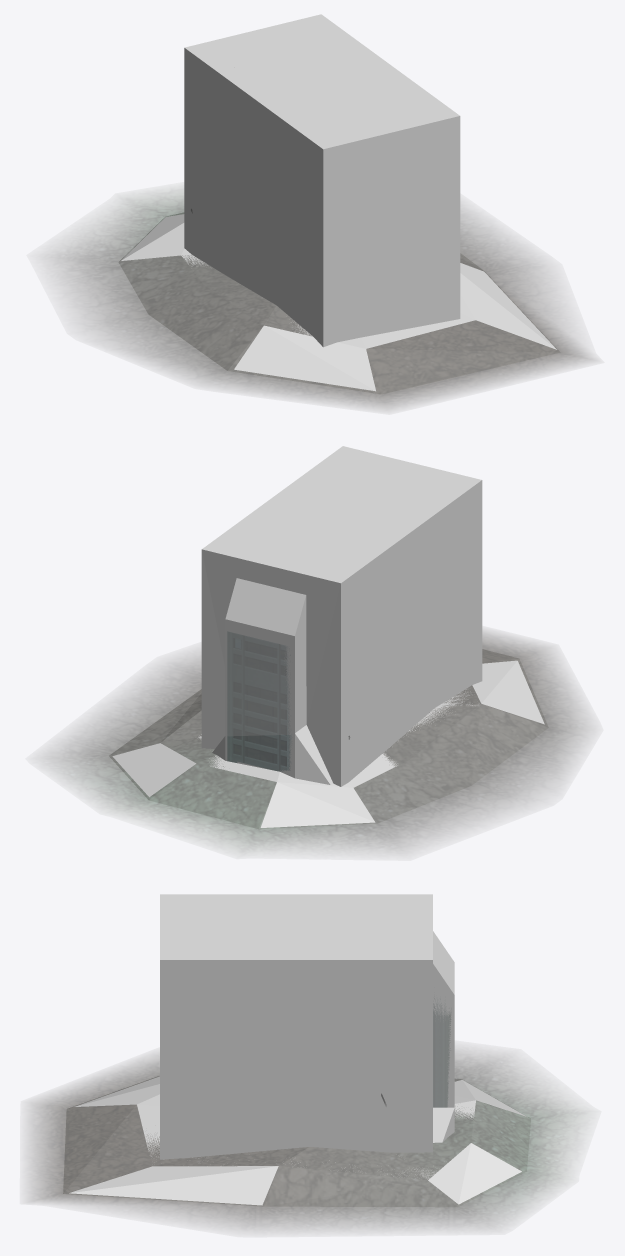
File: source.glb
3 renders of one model, top to bottom at view 1: azimuth 30°, elevation 25°; view 2: azimuth 150°, elevation 25°; view 3: azimuth 270°, elevation 25°, orthographic. The views are drawn at different scales.
Parts seen in each view (by area): view 1: coll_m206_0, state1_obj_d80d40, state1_coll_m10a_0, state2_obj_d8bcb0, state1_coll_m206_0; view 2: coll_m206_0, state1_obj_d80d40, state1_coll_m206_0, state1_coll_m10a_0, state2_obj_d8bcb0, obj_d7dee0, state1_obj_d825e0; view 3: coll_m206_0, state1_obj_d80d40, state1_coll_m10a_0, state2_obj_d8bcb0, state1_coll_m206_0, obj_d7dee0.
Part boxes in pixels (box(x1,y1,x2,y2)): coll_m206_0: box(184, 14, 460, 347); state1_obj_d80d40: box(75, 198, 580, 403); state1_coll_m10a_0: box(118, 212, 560, 394); state2_obj_d8bcb0: box(89, 203, 574, 400); state1_coll_m206_0: box(184, 48, 460, 315); coll_m206_0: box(201, 446, 482, 786); state1_obj_d80d40: box(69, 638, 574, 842); state1_coll_m206_0: box(201, 480, 482, 785); state1_coll_m10a_0: box(109, 649, 548, 829); state2_obj_d8bcb0: box(82, 641, 566, 838); obj_d7dee0: box(227, 632, 289, 770); state1_obj_d825e0: box(227, 735, 291, 770); coll_m206_0: box(160, 894, 454, 1159); state1_obj_d80d40: box(42, 1060, 564, 1220); state1_coll_m10a_0: box(63, 1076, 530, 1207); state2_obj_d8bcb0: box(49, 1066, 553, 1216); state1_coll_m206_0: box(160, 960, 454, 1159); obj_d7dee0: box(433, 1006, 450, 1107).
Bounding box in the file's own units: 407 × 184 × 463.
13 materials, 13 textured.
